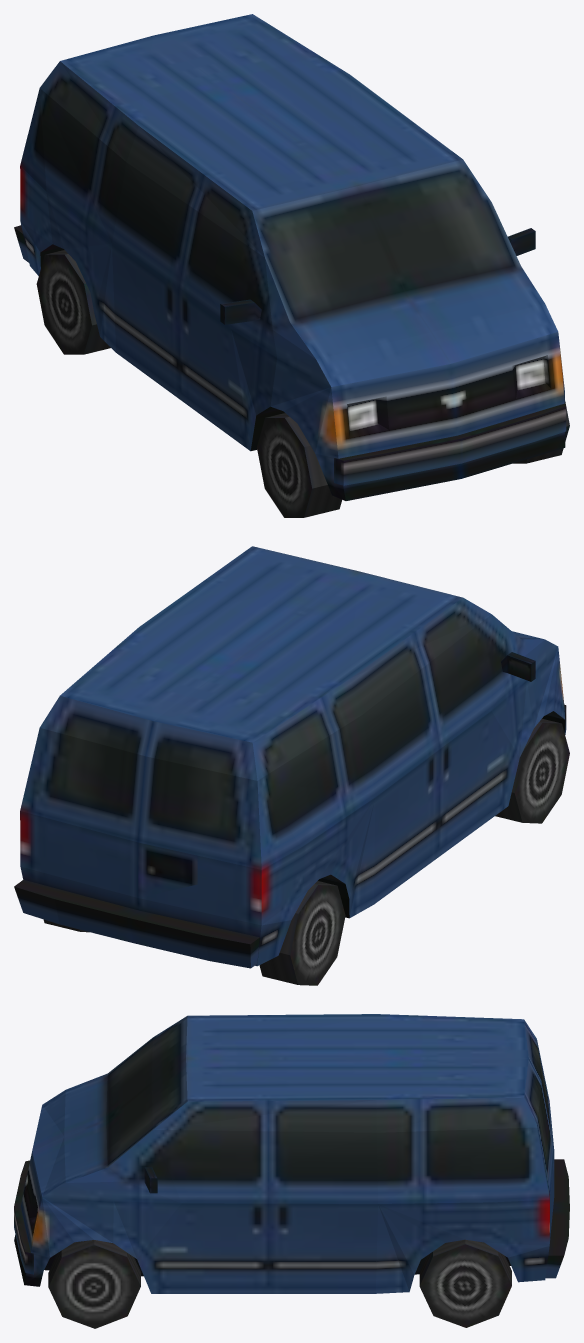
The model's file is minivan.glb.
3 renders of one model, top to bottom at view 1: azimuth 30°, elevation 25°; view 2: azimuth 150°, elevation 25°; view 3: azimuth 270°, elevation 25°, orthographic. The views are drawn at different scales.
Parts seen in each view (by area): view 1: Car4; view 2: Car4; view 3: Car4.
Part boxes in pixels (x1=…): Car4: x1=14, y1=14, x2=569, y2=517; Car4: x1=14, y1=546, x2=569, y2=985; Car4: x1=14, y1=1014, x2=569, y2=1328.
Bounding box in the file's own units: 3.4 × 2.74 × 6.3.
1 material, 1 textured.
